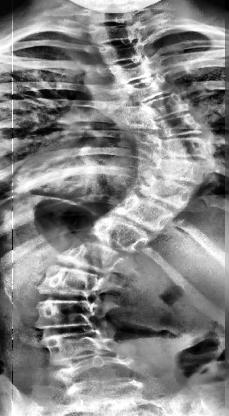Vertebrae: (113, 192, 176, 235), (57, 237, 124, 277), (38, 328, 109, 364), (87, 214, 149, 254), (36, 264, 104, 300), (138, 176, 198, 214), (35, 298, 100, 332), (134, 91, 194, 122), (117, 74, 175, 104), (150, 156, 206, 186), (154, 132, 210, 160), (150, 112, 206, 138), (108, 57, 162, 83), (97, 40, 153, 64), (89, 22, 142, 46)
